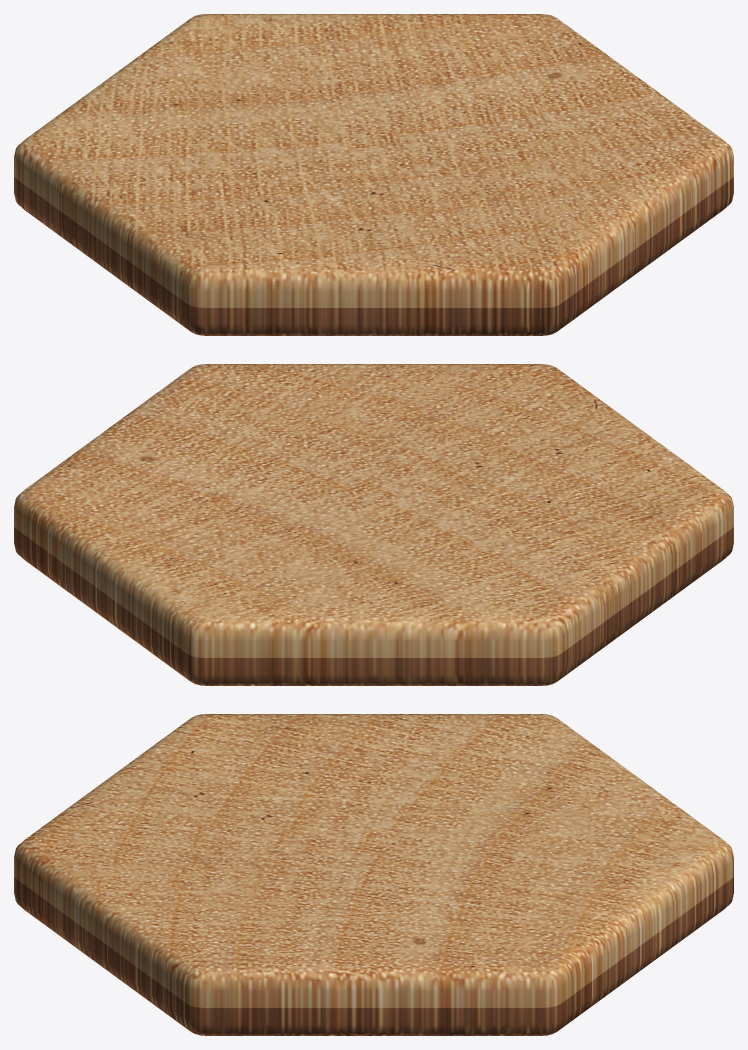
The model's file is HexagonHighPoly.FBX.
3 renders of one model, top to bottom at view 1: azimuth 30°, elevation 25°; view 2: azimuth 150°, elevation 25°; view 3: azimuth 270°, elevation 25°, orthographic.
Visible parts, largest first — view 1: HexagonHighPoly; view 2: HexagonHighPoly; view 3: HexagonHighPoly.
Part boxes in pixels (<box>): HexagonHighPoly: <box>14,14,733,335</box>; HexagonHighPoly: <box>14,364,733,685</box>; HexagonHighPoly: <box>14,714,733,1035</box>.
Bounding box in the file's own units: 17.32 × 2 × 19.83.
